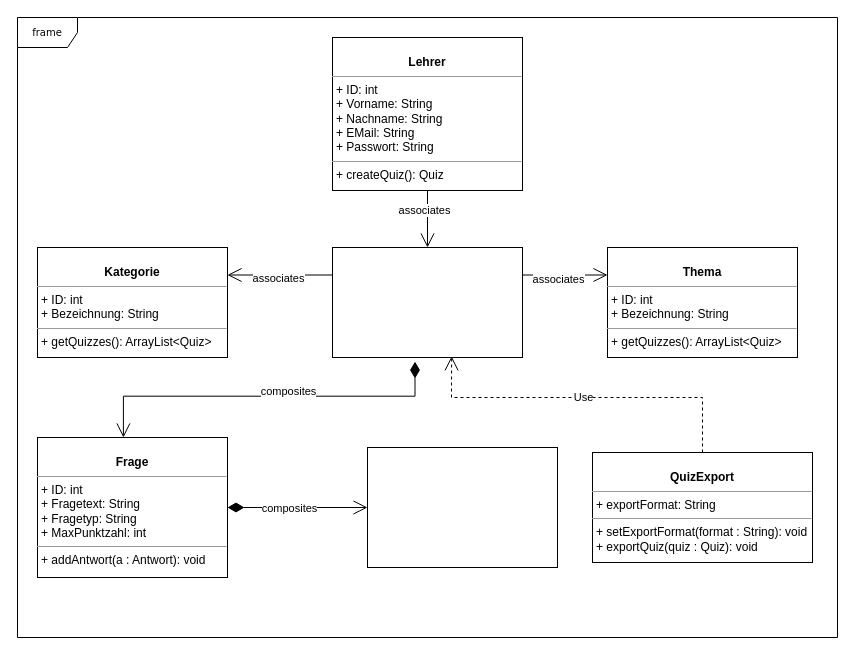
Some shapes in this 855 by 655 pixel diagram are drawn without their labels. Each missing label, with the box of its shape:
Antwort + ID: int + Antworttetx: String + Punktzahl: int + Richtigkeit: boolean: (366, 446, 558, 568)
Quiz + ID: int + Titel: String + addFrage(f : Frage): void: (332, 246, 522, 358)
